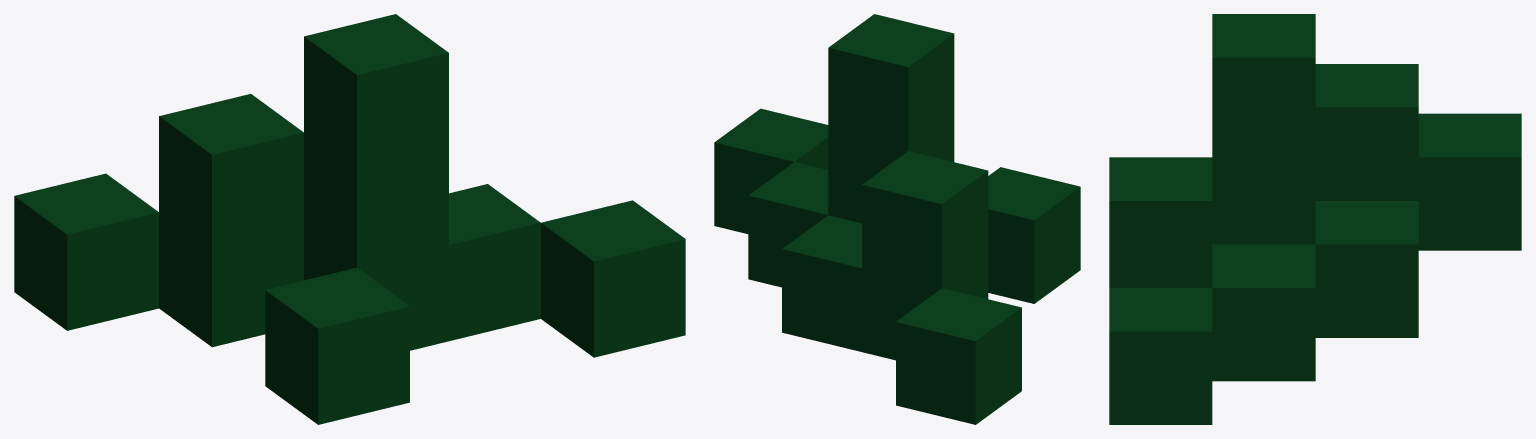
File: GrassPiece7.fbx
3 renders of one model, left to right at view 1: azimuth 30°, elevation 25°; view 2: azimuth 150°, elevation 25°; view 3: azimuth 270°, elevation 25°, orthographic. The views are drawn at different scales.
Parts seen in each view (by area): view 1: Matrix_Piece1_0_0_Piece0_0_1; view 2: Matrix_Piece1_0_0_Piece0_0_1; view 3: Matrix_Piece1_0_0_Piece0_0_1.
Part boxes in pixels (x1,y1,x2,y2): Matrix_Piece1_0_0_Piece0_0_1: [14, 14, 685, 424]; Matrix_Piece1_0_0_Piece0_0_1: [714, 14, 1080, 424]; Matrix_Piece1_0_0_Piece0_0_1: [1109, 14, 1521, 424].
Size of the model in its own units: 5 by 3 by 4.
1 material, 1 textured.
